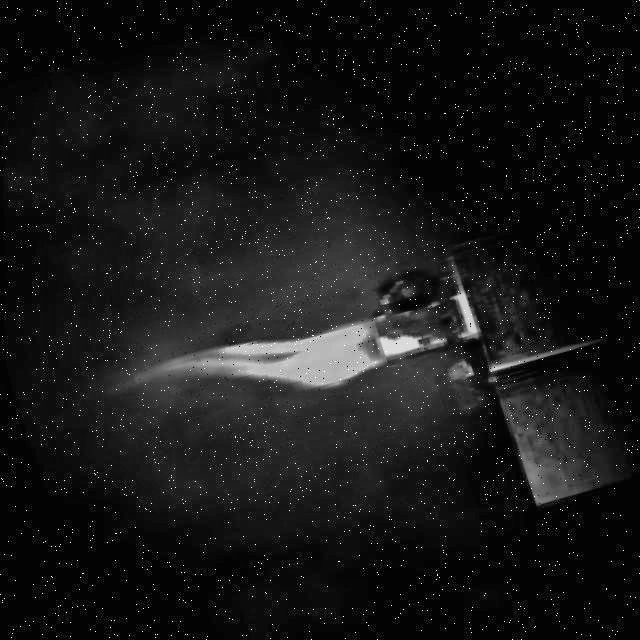Fire: (140, 293, 384, 443)
